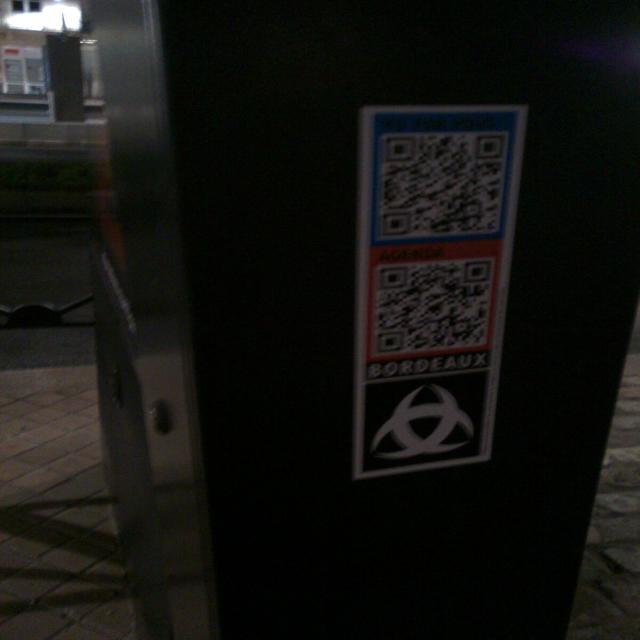qr-code: (382, 134, 504, 236), (376, 260, 492, 353)
